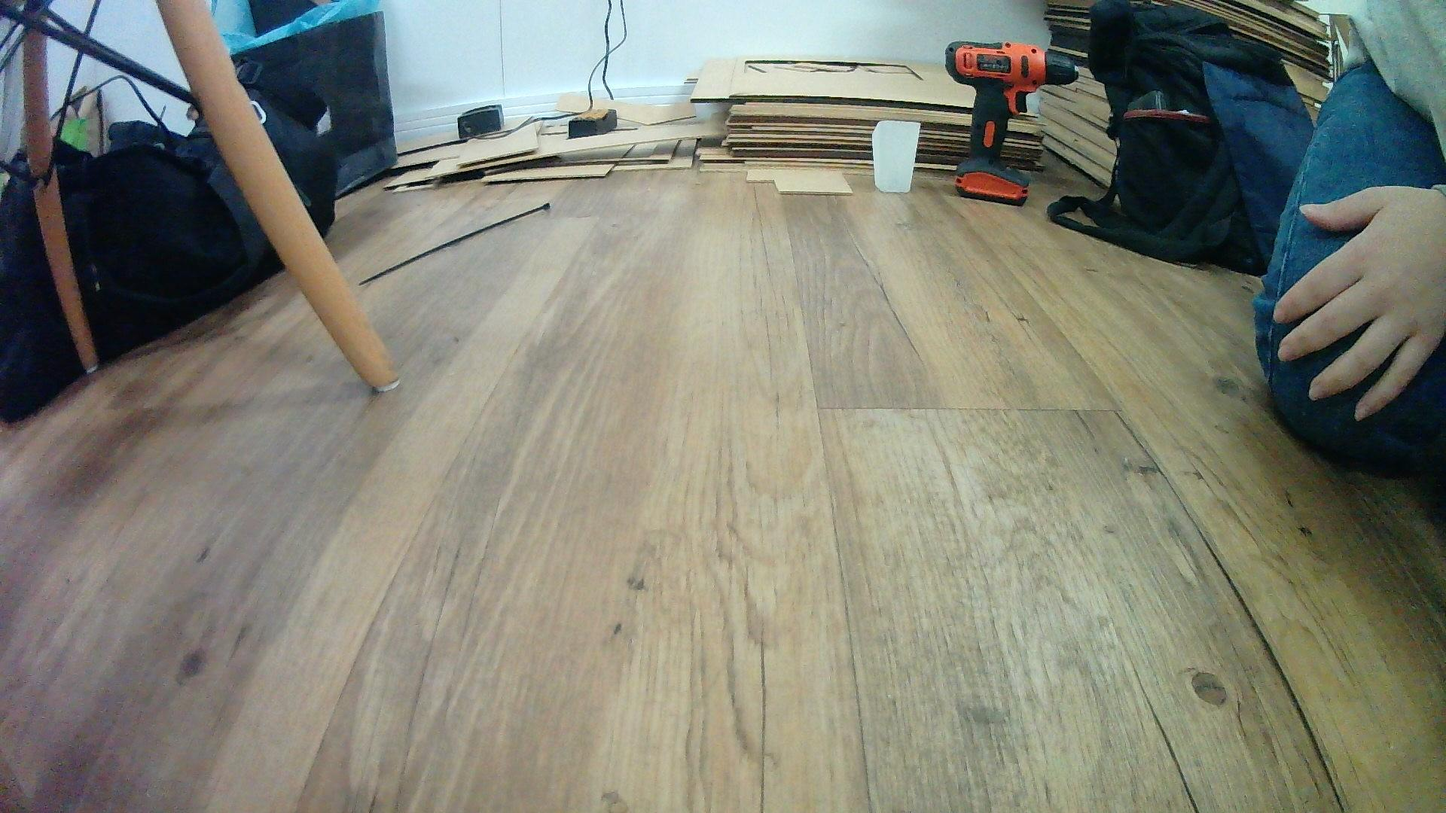erva_daninha: (871, 119, 921, 194)
